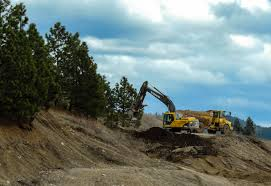excavator: (134, 81, 199, 136)
truck: (179, 110, 235, 135)
